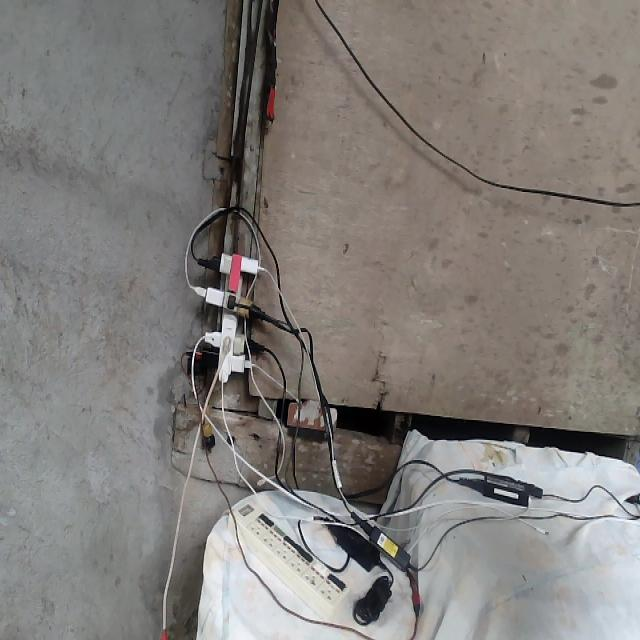-: (186, 249, 267, 380)
